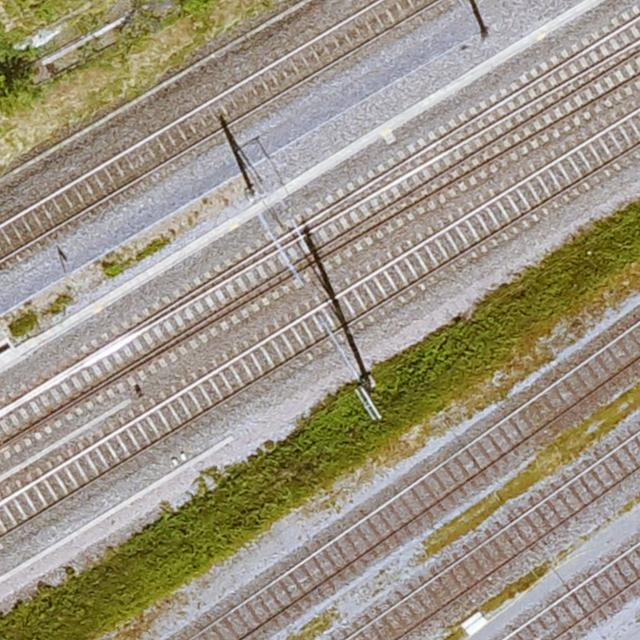tree: (1, 69, 43, 112)
